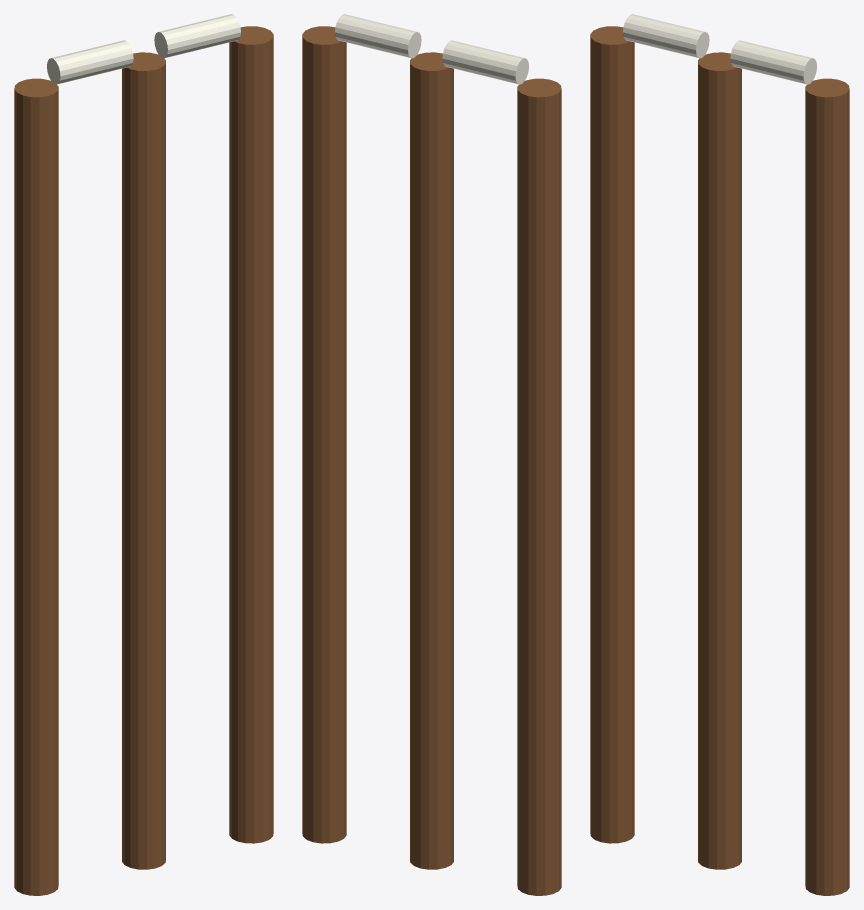
File: scendance-plan-alternate-wickets.glb
3 renders of one model, left to right at view 1: azimuth 30°, elevation 25°; view 2: azimuth 150°, elevation 25°; view 3: azimuth 330°, elevation 25°, orthographic.
Size of the model in its own units: 0.236 by 0.732 by 0.036.
